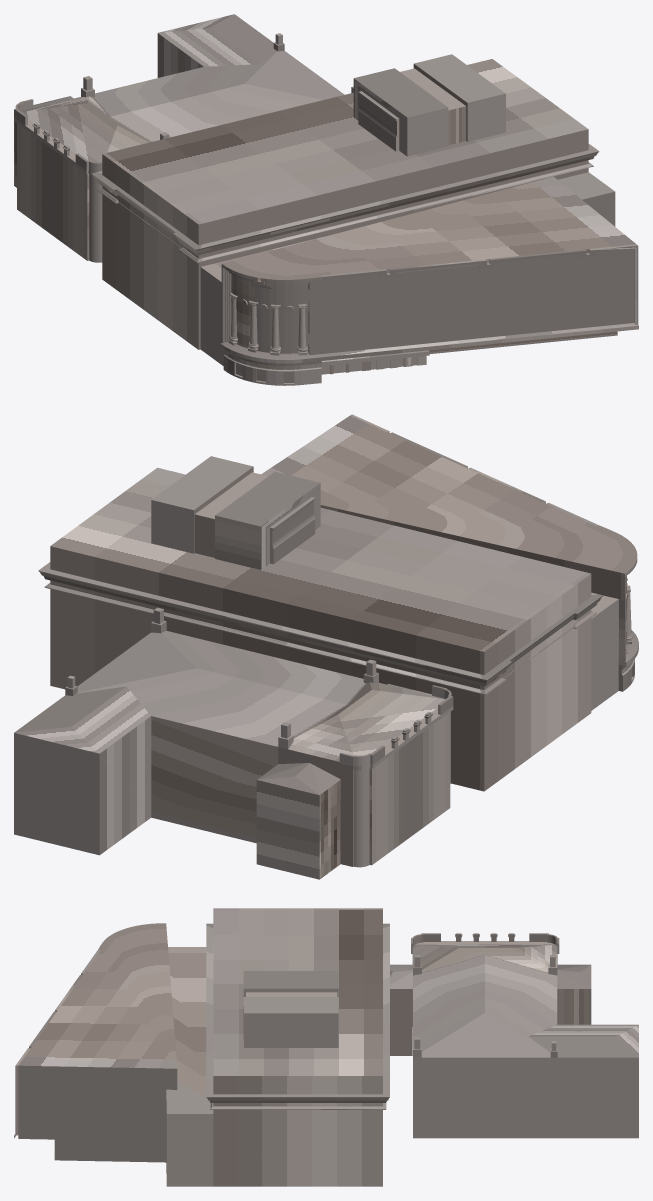
3 views of the same model, one above another, from view 1: azimuth 30°, elevation 25°; view 2: azimuth 150°, elevation 25°; view 3: azimuth 270°, elevation 25° (orthographic). The views are drawn at different scales.
Parts seen in each view (by area): view 1: Untitled; view 2: Untitled; view 3: Untitled.
Part boxes in pixels (left/top/right/bottom): Untitled: left=14, top=14, right=638, bottom=385; Untitled: left=14, top=414, right=638, bottom=879; Untitled: left=14, top=908, right=638, bottom=1186.
Size of the model in its own units: 31.96 by 12.45 by 48.59.
1 material, 1 textured.
